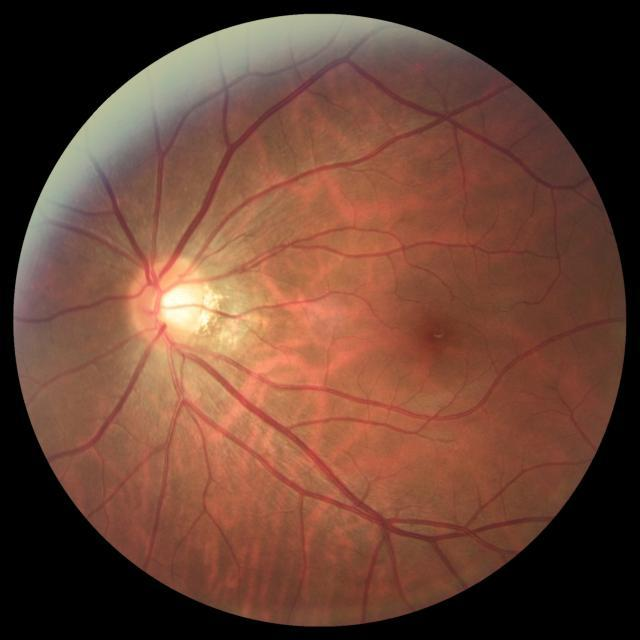OC: (150, 282, 198, 330)
OD: (128, 254, 212, 348)
